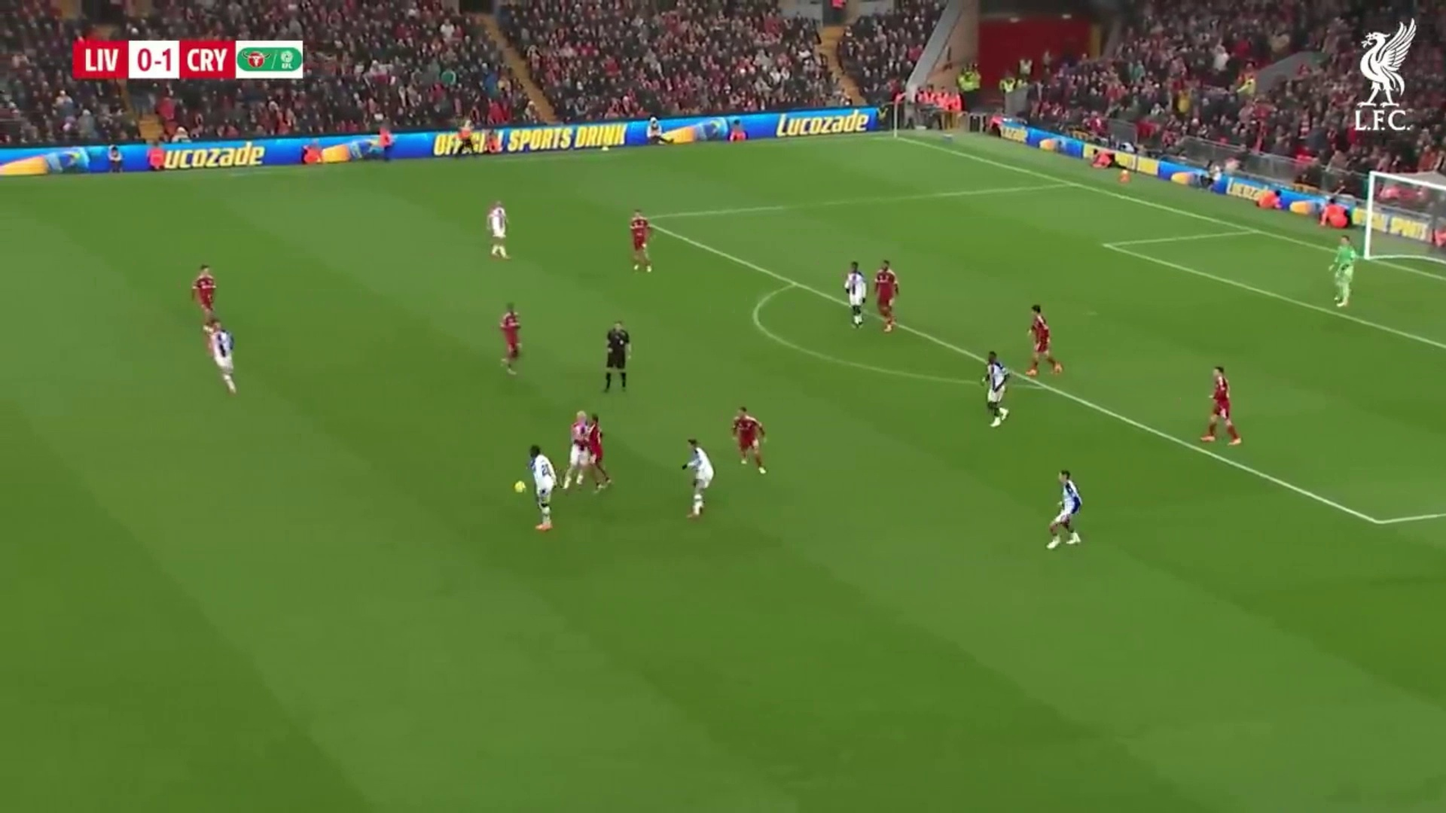player: (190, 265, 238, 397), (1200, 364, 1242, 449), (565, 409, 608, 491), (1047, 469, 1084, 551), (680, 437, 714, 521), (527, 444, 558, 534), (1025, 301, 1058, 383), (1330, 226, 1358, 310), (982, 350, 1012, 428), (731, 407, 767, 472), (603, 323, 632, 395), (873, 261, 900, 332), (499, 303, 524, 373), (844, 261, 868, 330), (629, 212, 654, 276), (488, 200, 510, 260)
